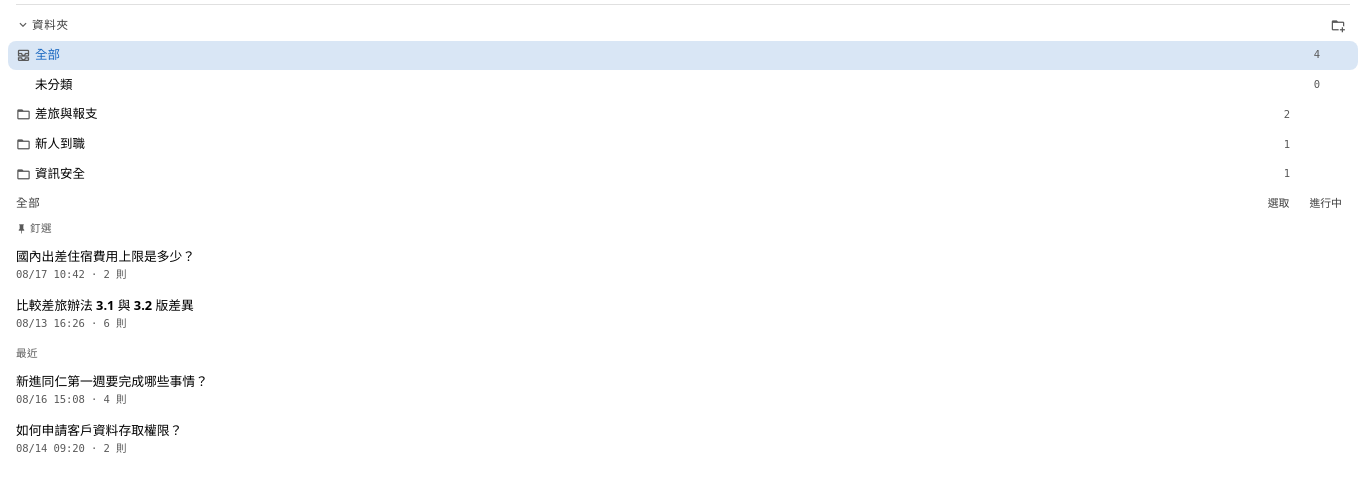
Test: ConversationHistoryPanel › should create a folder inline and switch to it
Click the button named "新增資料夾" at [1338, 25], box [1326, 13, 1350, 37]
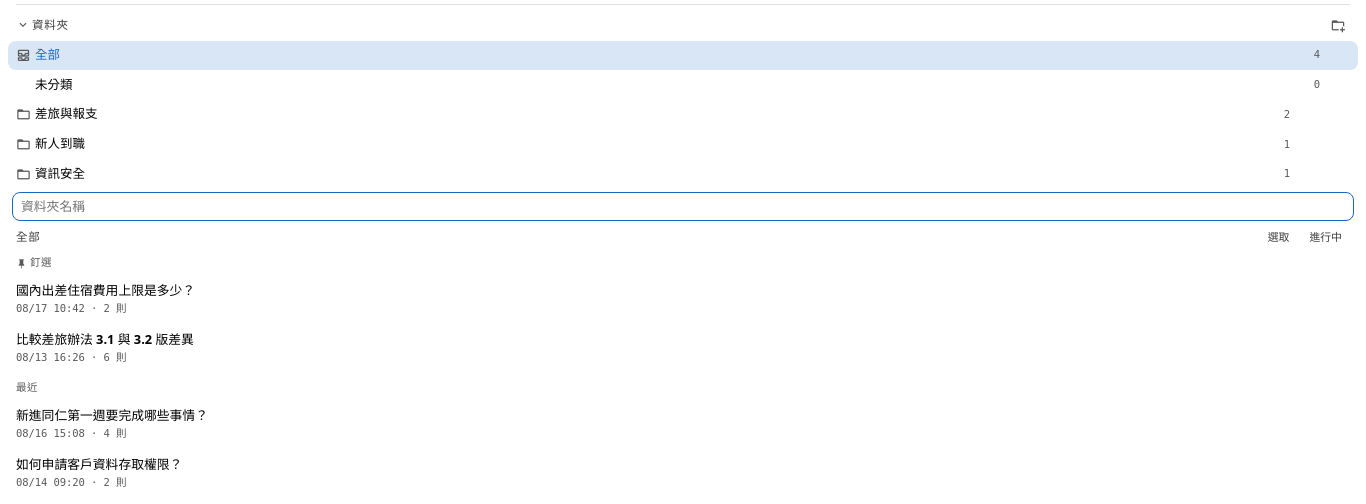
Type "客訴處理" into the field named "新資料夾名稱" at [683, 206], box [12, 192, 1354, 221]
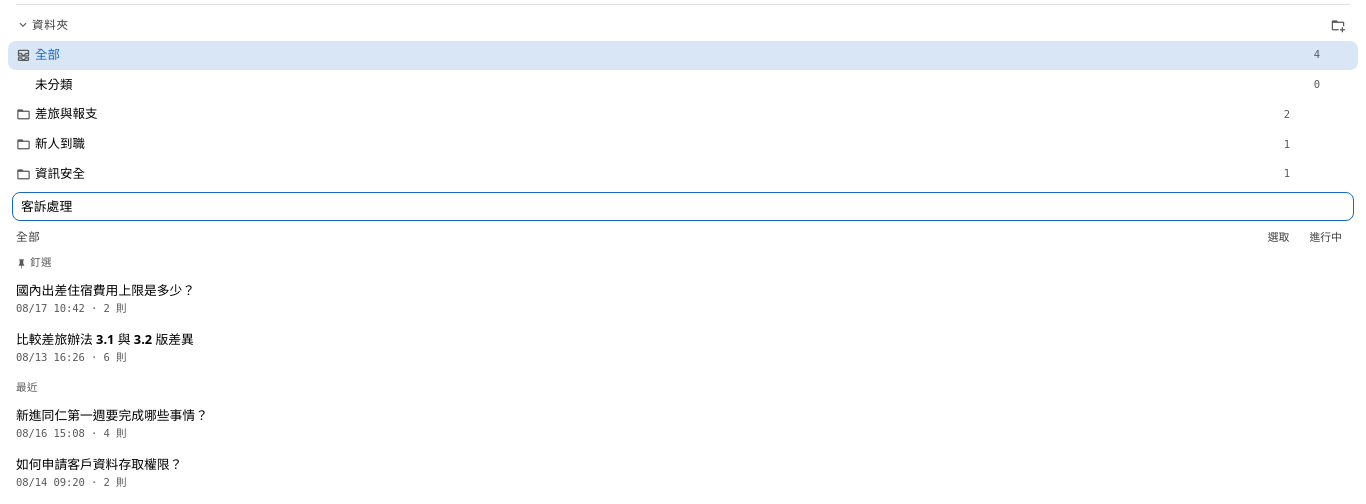
Press Enter in the field named "新資料夾名稱", box [12, 192, 1354, 221]
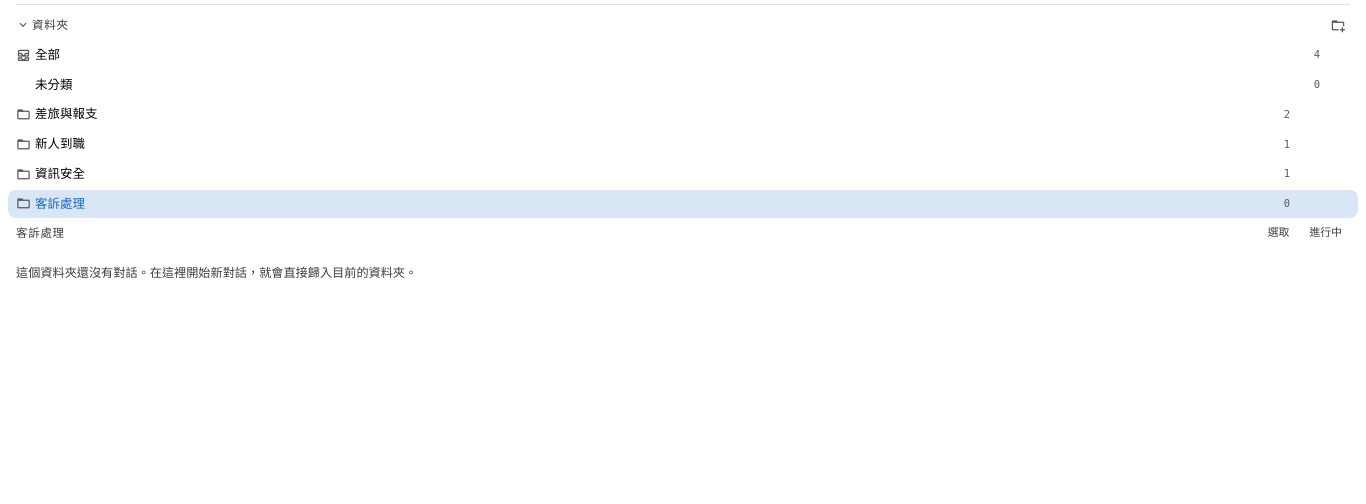
Expected: the text "客訴處理" is shown, [35, 195, 85, 212]
